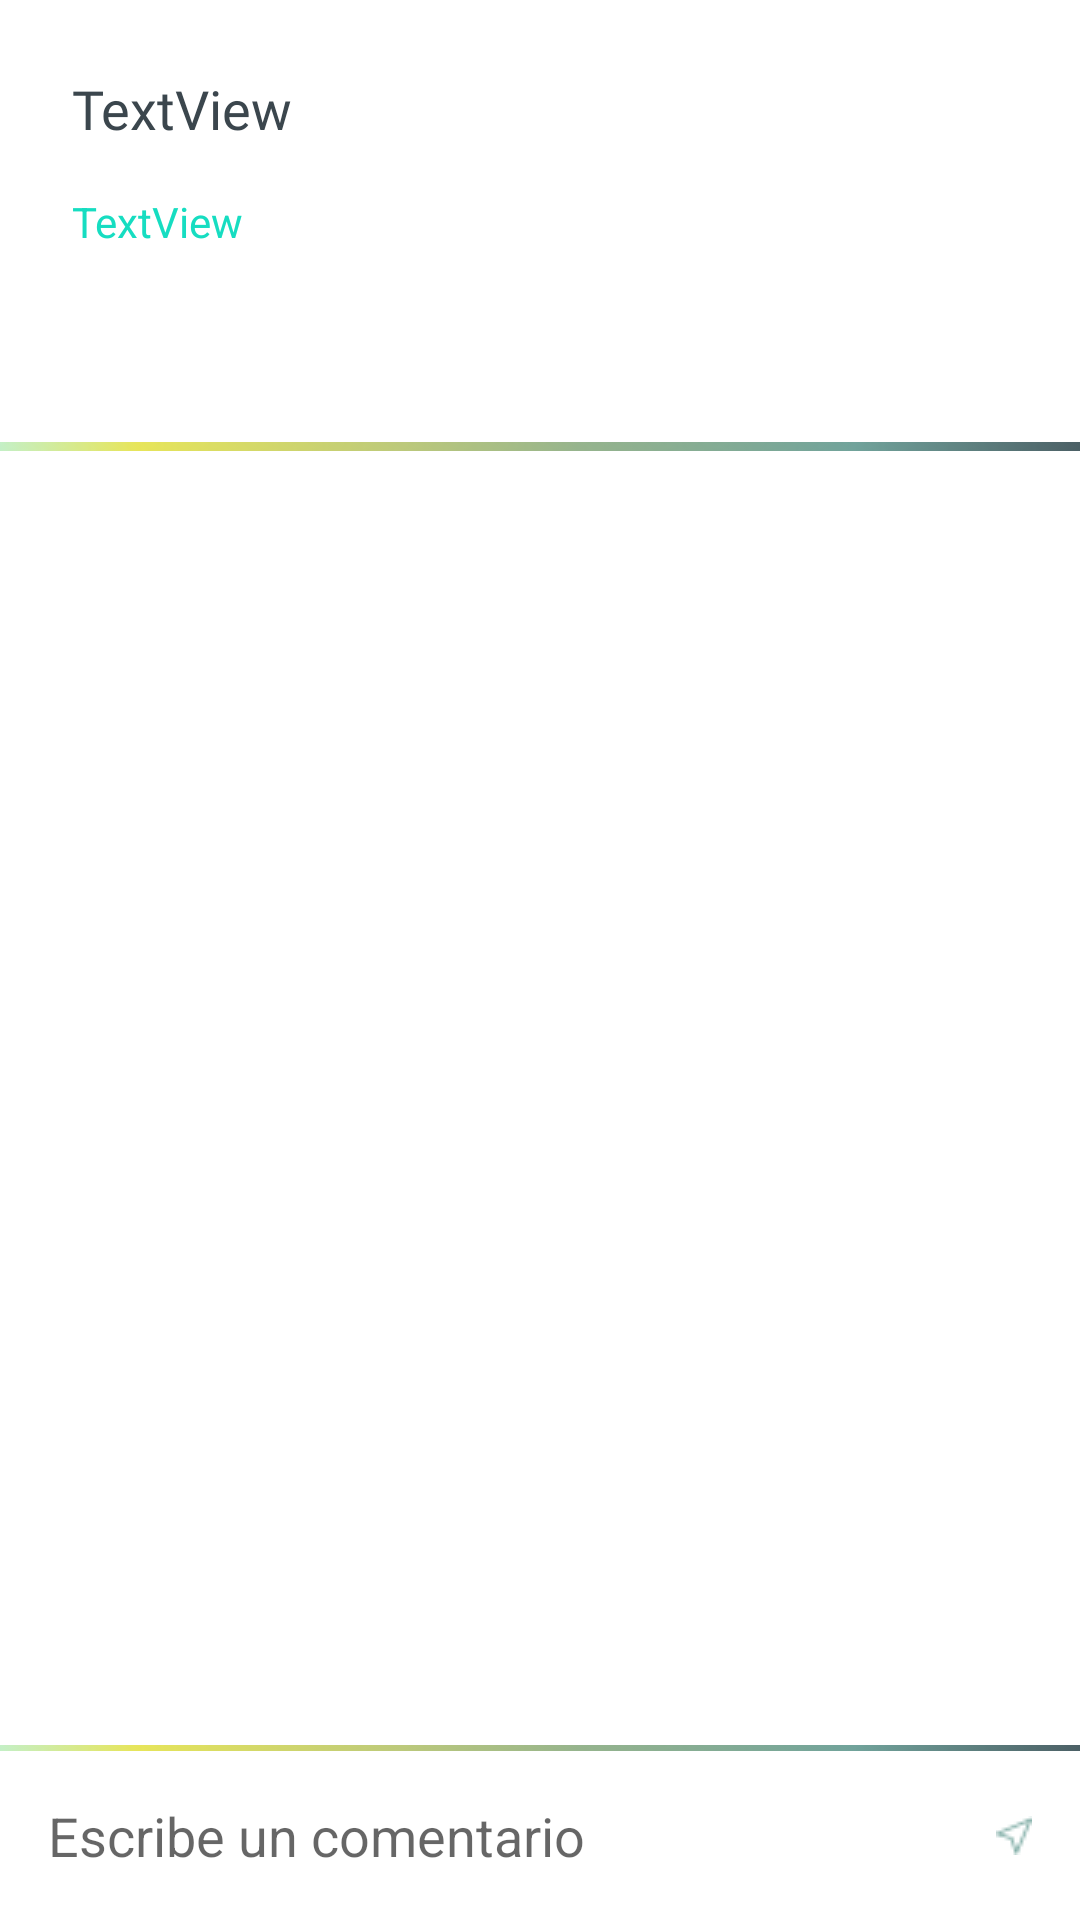

Where icons sit on this 1080px x 1920px app screen, as [x1=x1, y1=y1, x2=x2, y2=y2]:
send: [x1=996, y1=1818, x2=1032, y2=1855]
